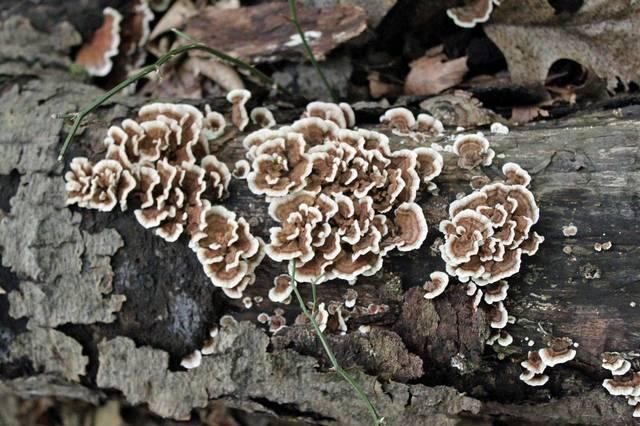poisonous_mushroom: (63, 87, 545, 347), (187, 204, 265, 299)
